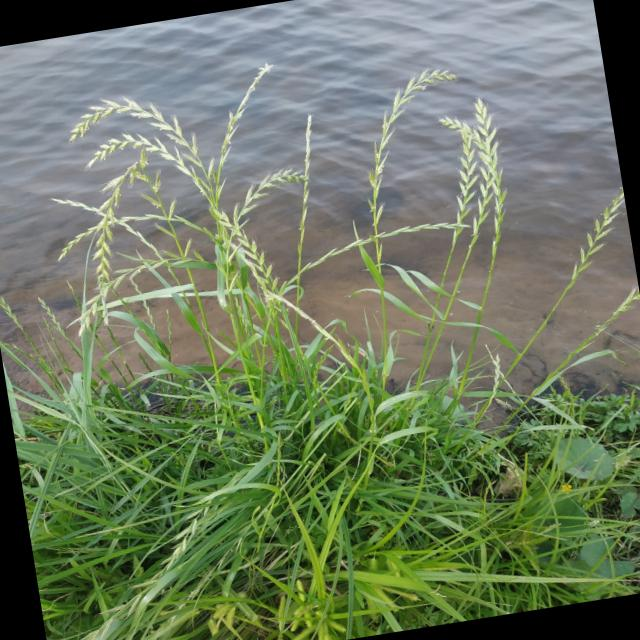Lolium: (5, 259, 640, 640), (350, 62, 476, 226), (65, 84, 208, 189), (276, 216, 476, 288), (68, 253, 204, 338), (435, 97, 511, 235), (54, 205, 212, 260), (222, 164, 324, 237), (564, 196, 635, 272), (243, 238, 281, 312)
